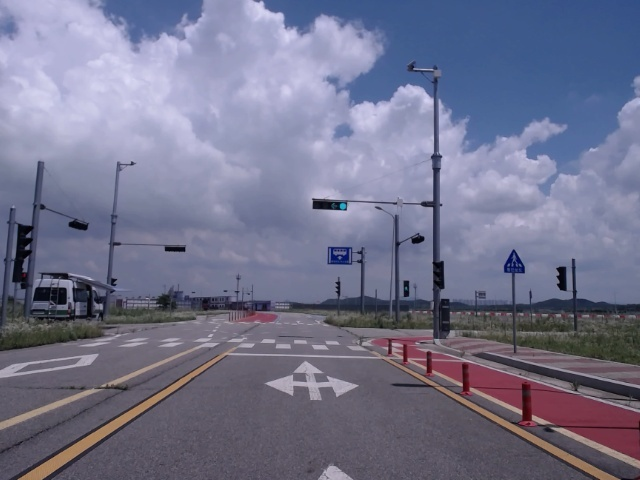all_green_4: (311, 196, 348, 210)
